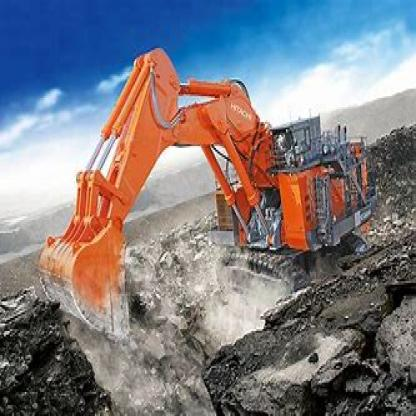excavator: (34, 26, 394, 329)
